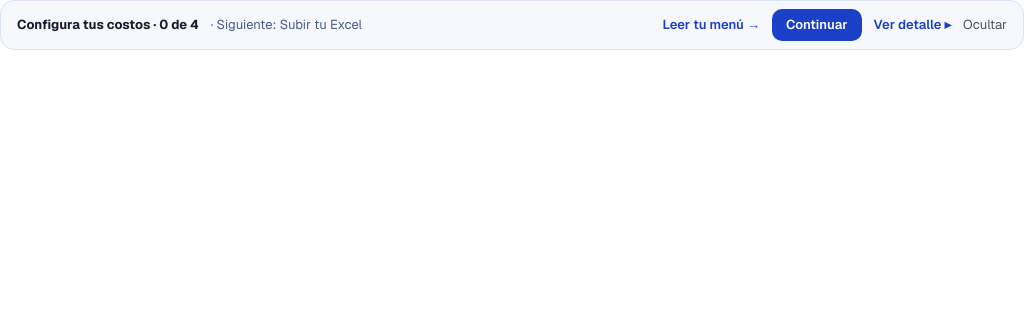
Test: embedded workspace (the path Costos actually renders) › a step that is not a link (the Excel upload) opens the detail
Click the button "Continuar" at (817, 25), box [772, 9, 862, 40]
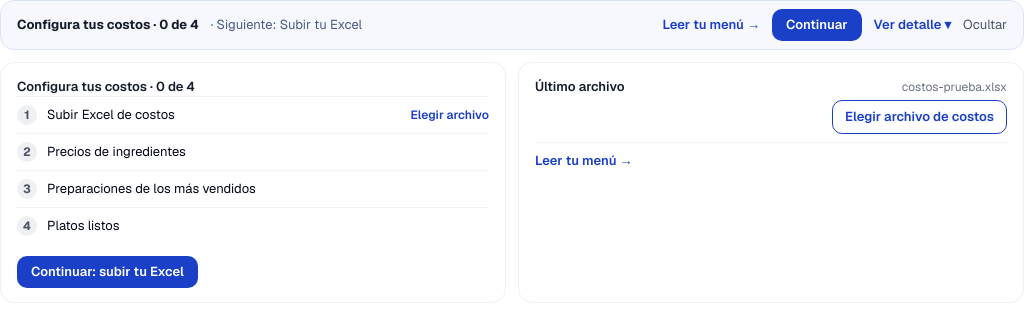
Result: the element with test id "costs-setup-detail" is shown
